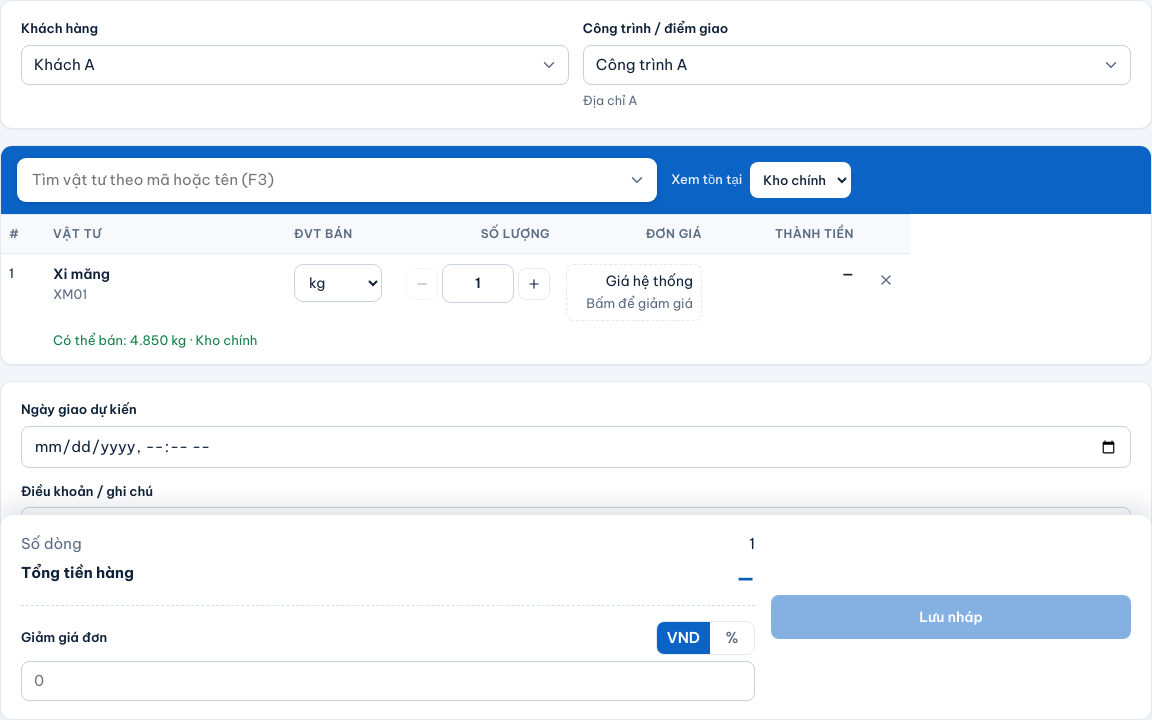
Test: shows what can be sold from the chosen warehouse in the line's unit
Select "bao" in the dropdown named "ĐVT bán dòng 1" at [338, 283], box [294,264,382,302]
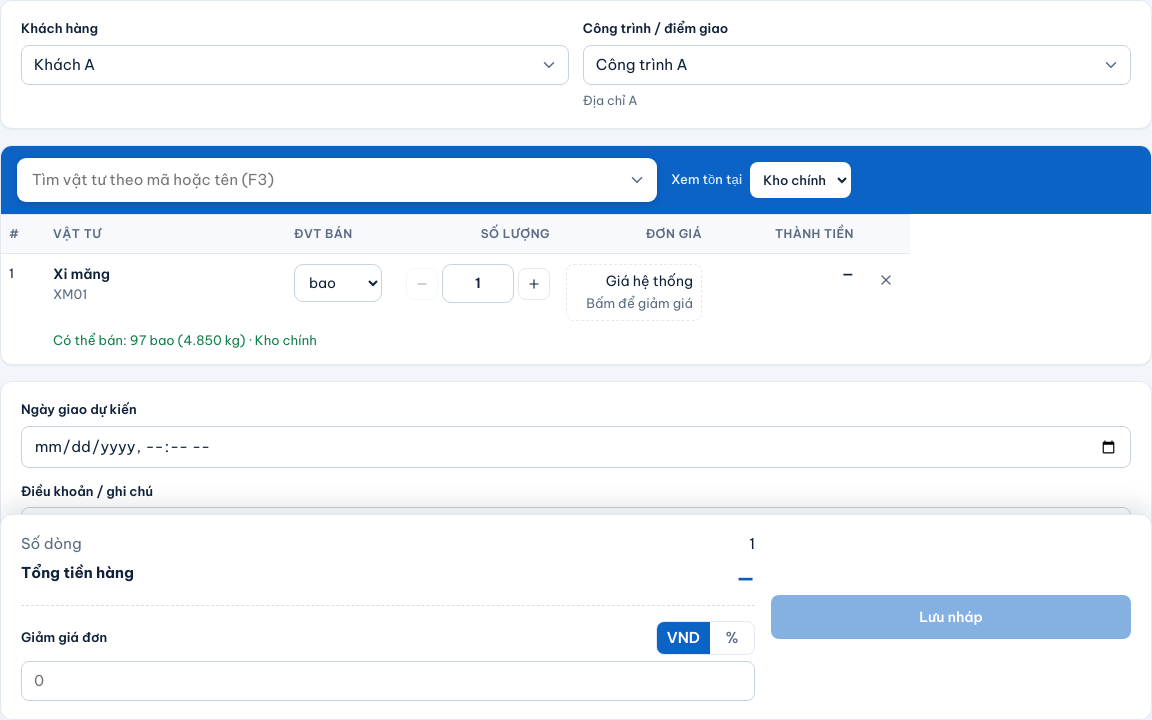
expect the text "Có thể bán: 97 bao (4.850 kg) · Kho chính" is shown: met, box [53,332,317,348]
Replace the text in the field named "Số lượng dòng 1" with "98" at [478, 284], box [442,264,514,303]
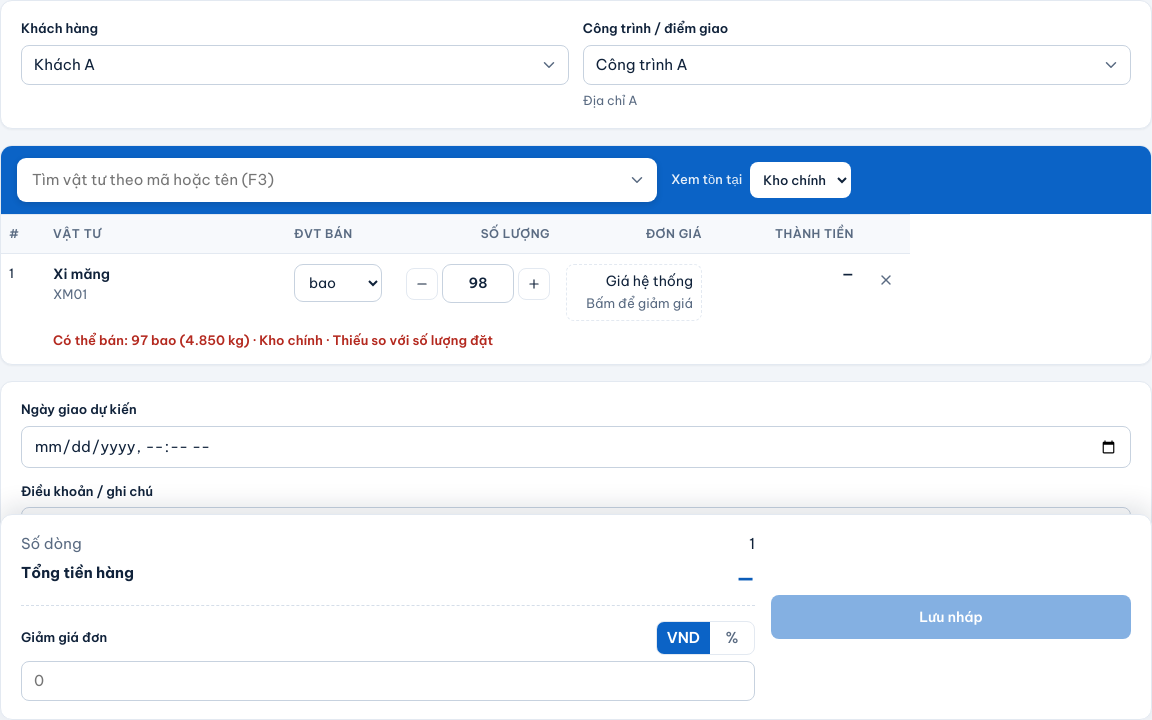
expect the text "Thiếu so với số lượng đặt" is shown: met, box [323,332,493,348]
Select "Kho phụ" in the dropdown labelled "Xem tồn tại" at [801, 180], box [750,162,851,198]
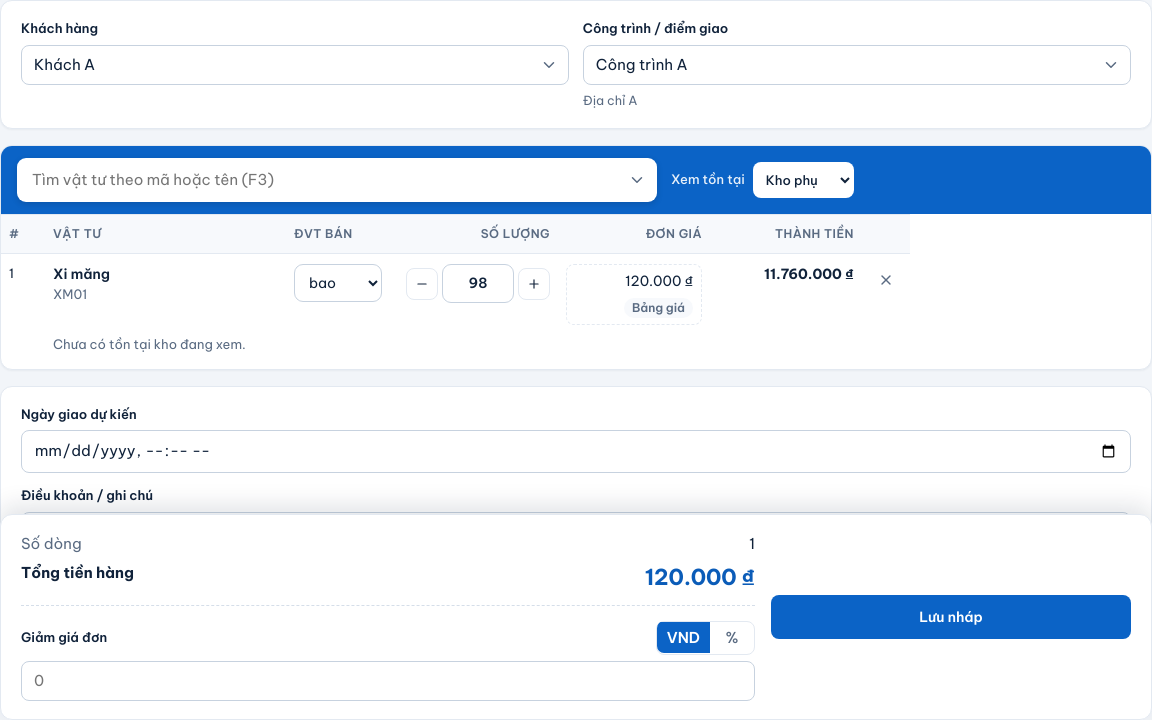
expect the text "Chưa có tồn tại kho đang xem." is shown: met, box [53,336,246,352]
